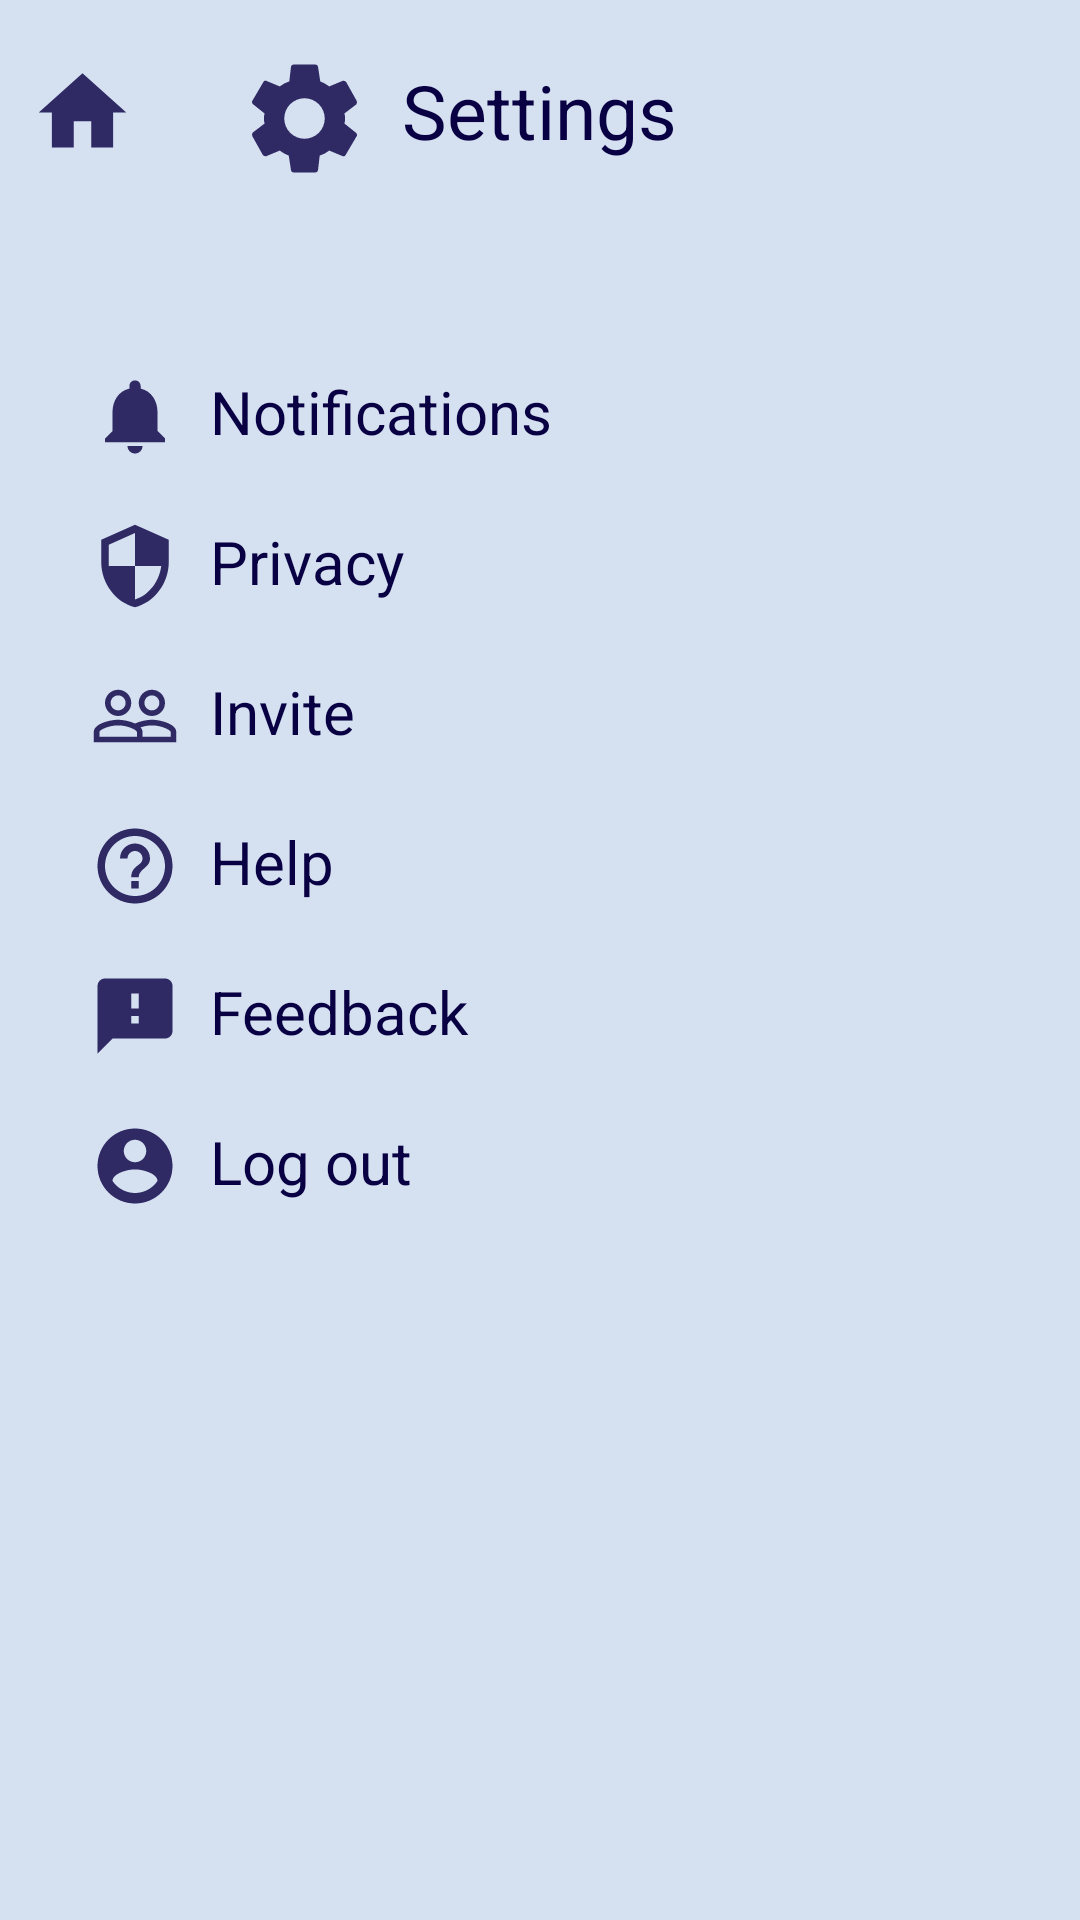

Icon click points for this 1080*1920 phone screenshot, format point (x, y):
account circle: point (135, 1166)
home: point (82, 110)
people: point (135, 716)
security: point (135, 566)
